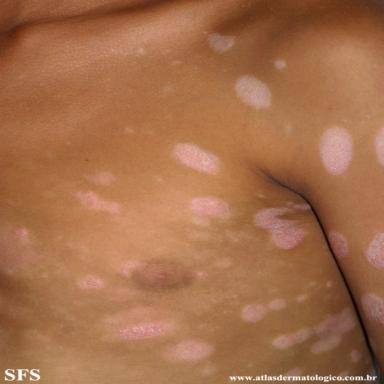Psoriasis: (272, 307, 356, 354), (254, 203, 310, 250), (1, 227, 40, 275), (319, 127, 352, 175), (173, 143, 220, 174), (189, 197, 229, 226), (75, 191, 122, 215), (241, 299, 285, 323), (235, 78, 270, 108), (171, 341, 212, 361), (115, 323, 163, 339), (364, 233, 384, 270), (361, 293, 384, 325), (329, 231, 349, 259), (208, 34, 235, 53), (117, 261, 146, 278), (84, 171, 115, 186), (79, 276, 104, 289), (375, 129, 384, 165), (213, 257, 233, 269), (201, 365, 216, 377), (350, 349, 361, 363), (273, 59, 286, 70), (136, 47, 148, 57), (195, 271, 208, 280), (124, 125, 136, 134), (296, 294, 309, 302), (162, 84, 174, 92), (326, 281, 333, 288), (309, 281, 318, 286)
